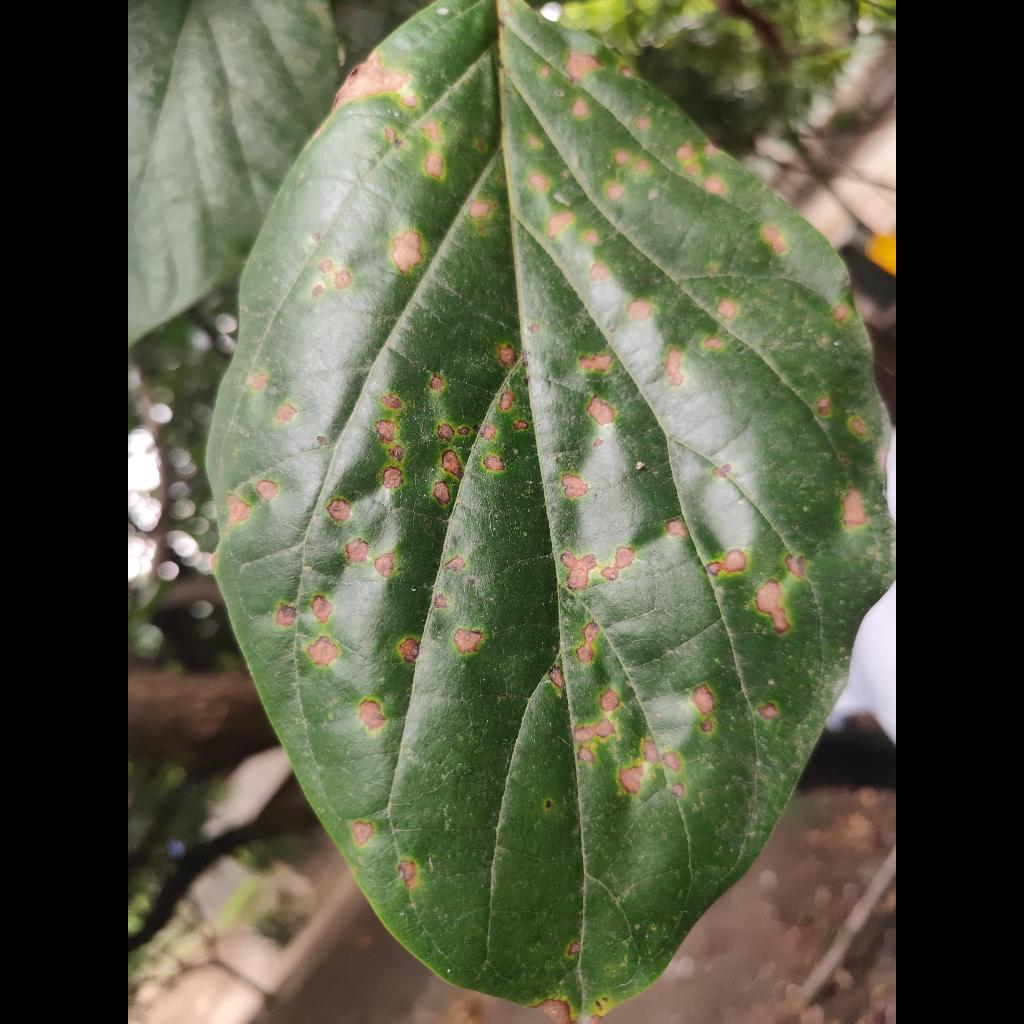antracnosis_fruto: (802, 0, 844, 1024)
